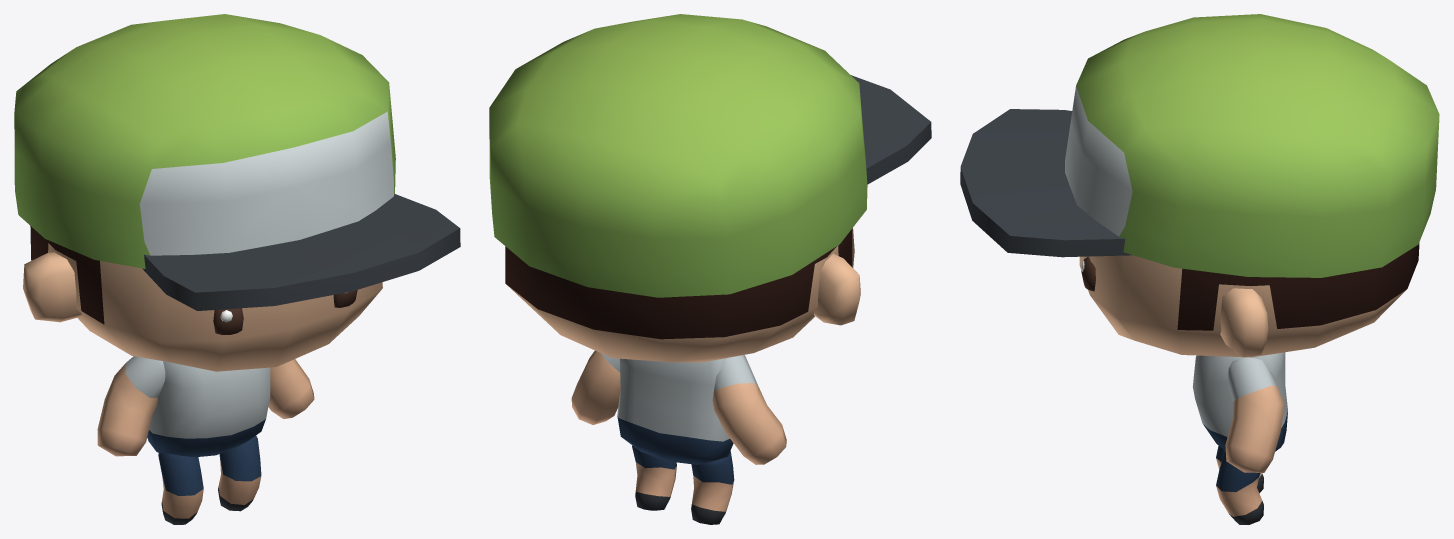
Rendered from idle_0048.obj.
3 renders of one model, left to right at view 1: azimuth 30°, elevation 25°; view 2: azimuth 150°, elevation 25°; view 3: azimuth 270°, elevation 25°, orthographic.
Visible parts, largest first — view 1: Object_41, Object_42, Object_36, Object_44, Object_38; view 2: Object_41, Object_36, Object_44, Object_42; view 3: Object_41, Object_36, Object_42, Object_44.
Boxes of the visible parts, x1,y1,x2,y2 form: Object_41: [14, 14, 395, 268]; Object_42: [139, 111, 460, 310]; Object_36: [23, 226, 382, 371]; Object_44: [97, 356, 314, 524]; Object_38: [213, 290, 357, 334]; Object_41: [489, 14, 867, 297]; Object_36: [505, 228, 860, 362]; Object_44: [571, 350, 786, 524]; Object_42: [851, 75, 931, 184]; Object_41: [1076, 14, 1439, 277]; Object_36: [1079, 242, 1419, 357]; Object_42: [960, 86, 1132, 257]; Object_44: [1192, 352, 1287, 524].
Bounding box in the file's own units: 0.9691 × 1.21 × 1.13.
